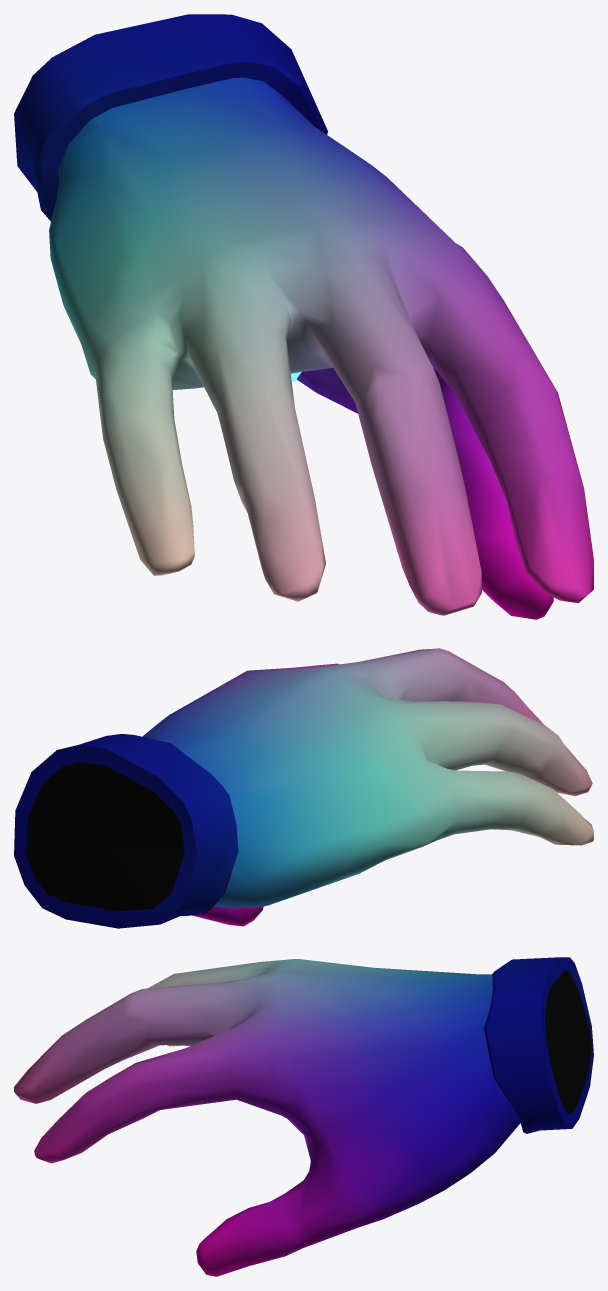
Rendered from WizardRightHand.fbx.
3 renders of one model, top to bottom at view 1: azimuth 30°, elevation 25°; view 2: azimuth 150°, elevation 25°; view 3: azimuth 270°, elevation 25°, orthographic. The views are drawn at different scales.
Parts seen in each view (by area): view 1: hand, cuff; view 2: hand, cuff; view 3: hand, cuff.
Boxes of the visible parts, x1,y1,x2,y2 form: hand: (49, 77, 593, 619); cuff: (14, 14, 327, 221); hand: (142, 648, 593, 926); cuff: (14, 734, 238, 928); hand: (14, 959, 520, 1276); cuff: (484, 957, 593, 1133).
Bounding box in the file's own units: 12.11 × 10.31 × 19.73.
